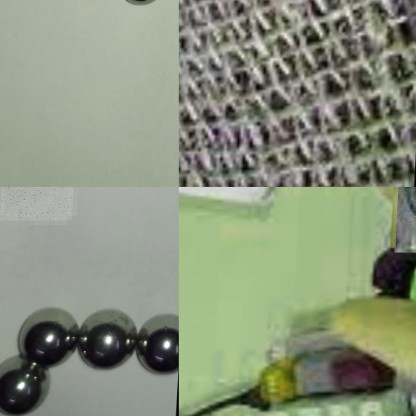ironball: (14, 309, 79, 371), (77, 307, 134, 371), (0, 358, 58, 414), (134, 309, 178, 373)
